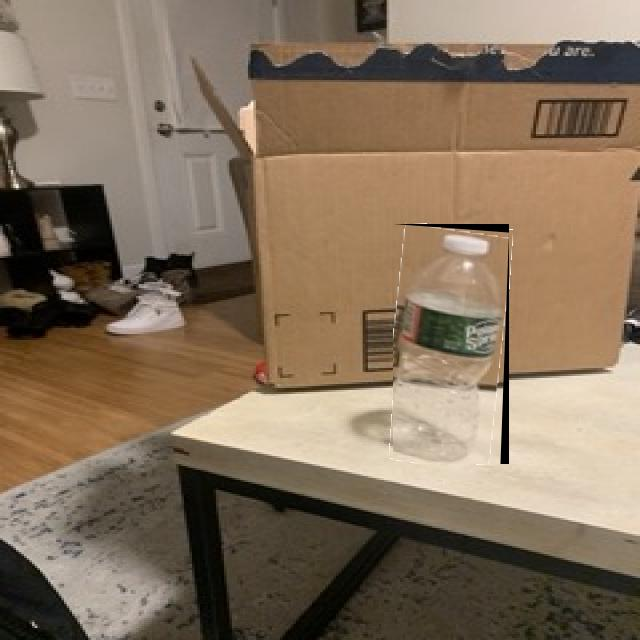water_bottle: (393, 224, 509, 464)
